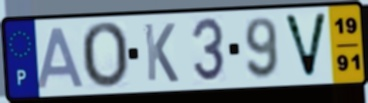3: (188, 15, 227, 87)
9: (244, 14, 281, 81)
A: (35, 25, 88, 91)
K: (142, 21, 181, 85)
O: (79, 20, 130, 91)
V: (281, 12, 330, 81)
